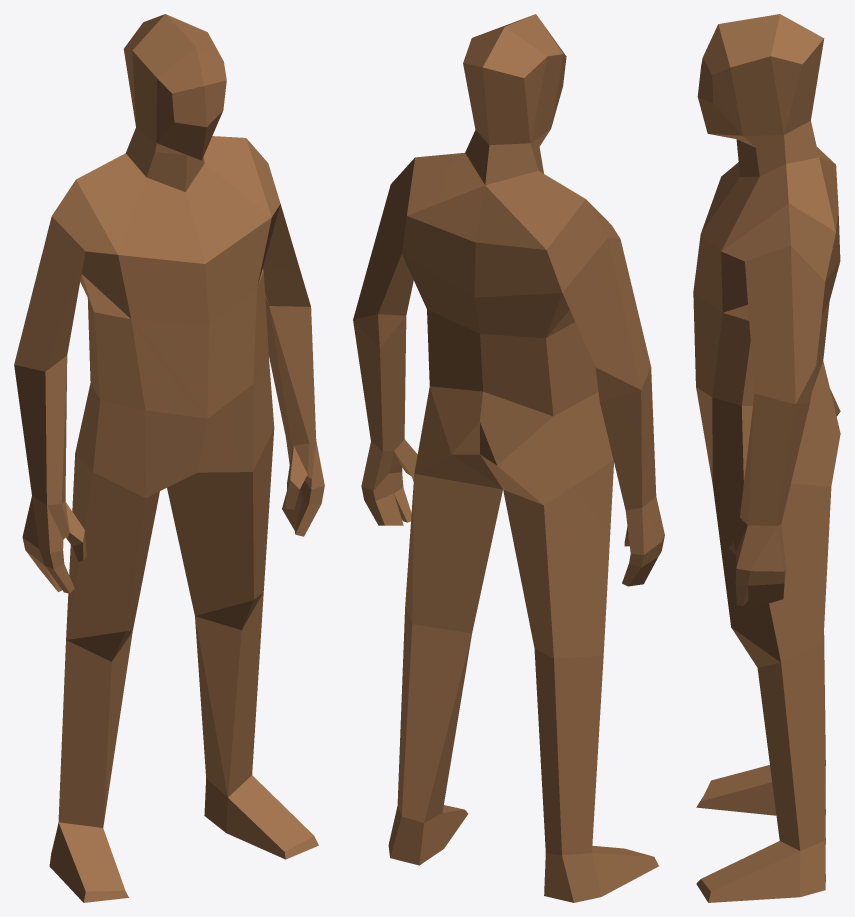
The model's file is Human01.fbx.
3 renders of one model, left to right at view 1: azimuth 30°, elevation 25°; view 2: azimuth 150°, elevation 25°; view 3: azimuth 270°, elevation 25°, orthographic.
Visible parts, largest first — view 1: Human01; view 2: Human01; view 3: Human01.
Boxes of the visible parts, left/top/right/bottom form: Human01: left=14, top=14, right=324, bottom=902; Human01: left=353, top=14, right=664, bottom=902; Human01: left=693, top=14, right=840, bottom=902.
Bounding box in the file's own units: 63.68 × 177 × 28.38.
